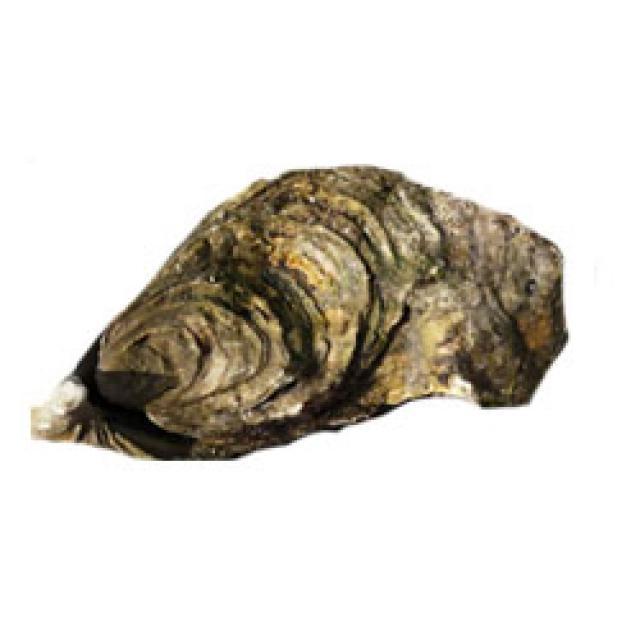Oyster- Indeterminate: (30, 165, 571, 463)
